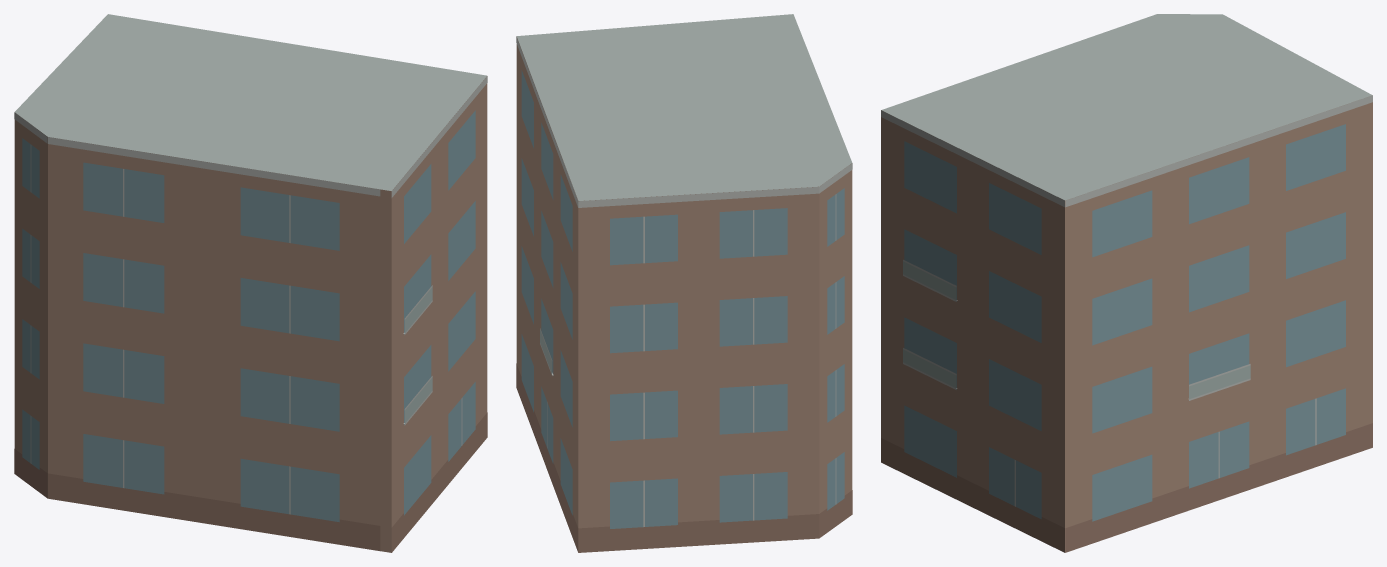
Rendered from survey-upis-32978343.glb.
The picture shows the model from 3 angles, left to right: view 1: azimuth 30°, elevation 25°; view 2: azimuth 150°, elevation 25°; view 3: azimuth 270°, elevation 25°; orthographic projection. The views are drawn at different scales.
Visible parts, largest first — view 1: survey-upis-32978343.tmp; view 2: survey-upis-32978343.tmp; view 3: survey-upis-32978343.tmp.
Part boxes in pixels (x1,y1,x2,y2): survey-upis-32978343.tmp: (14,14,487,552); survey-upis-32978343.tmp: (516,14,852,552); survey-upis-32978343.tmp: (881,14,1372,552).
Bounding box in the file's own units: 14.09 × 12.4 × 15.69.
